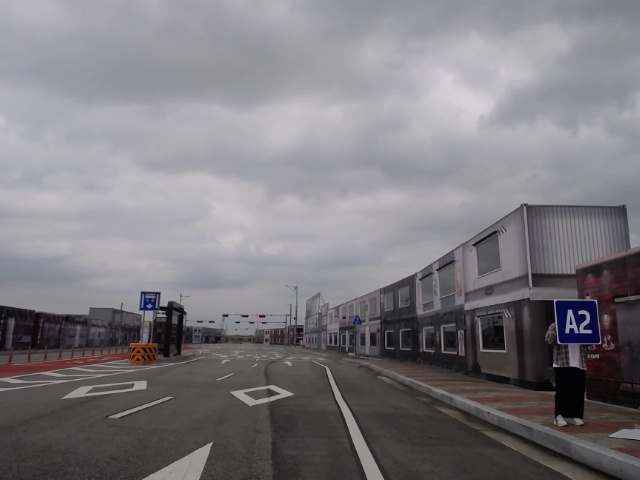delivery_a2: (555, 299, 601, 344)
